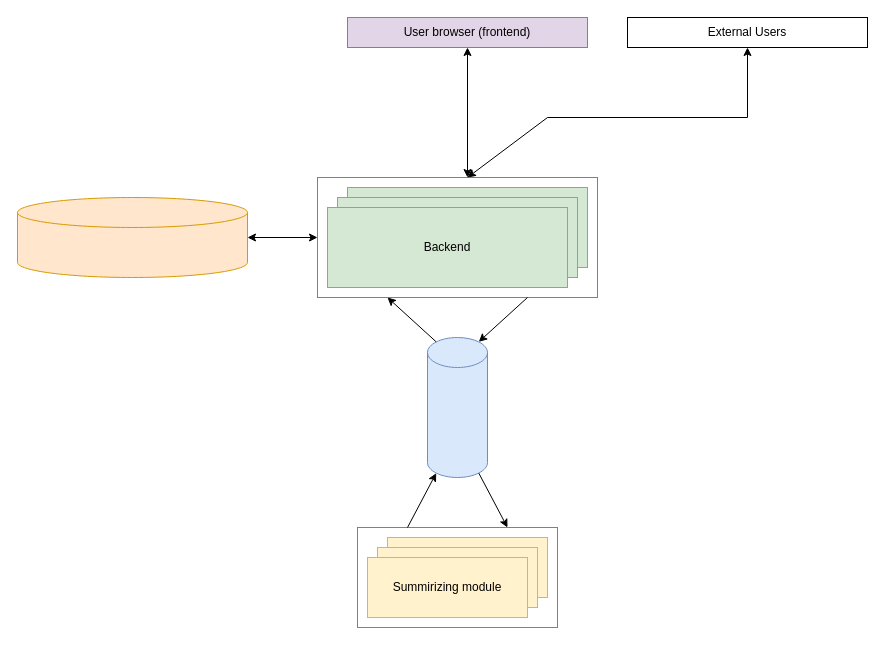
Some shapes in this 885 by 645 pixel diagram are drawn without their labels. The centre of each missing label's shape, as x and y in pixels:
Kafka: the point at 457,407
PostgreSQL Database: the point at 132,237
